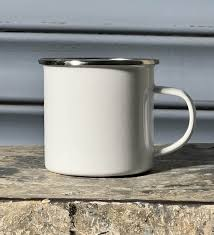mug: (29, 43, 205, 186)
